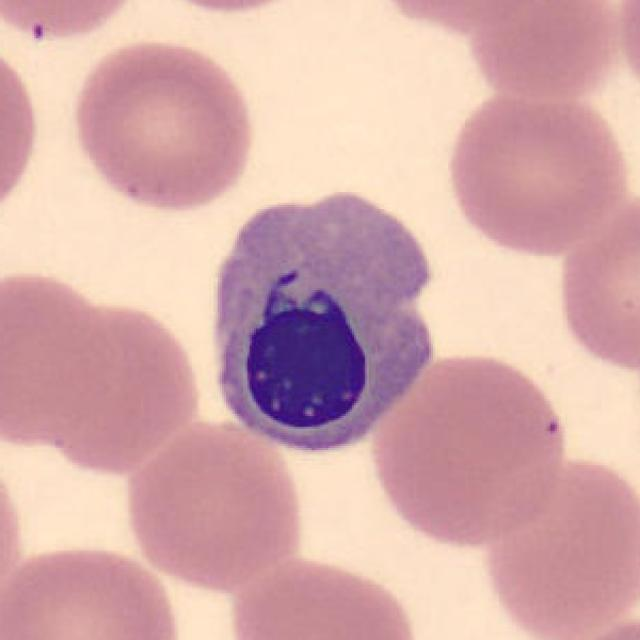White Blood Cell: (220, 195, 430, 447)
